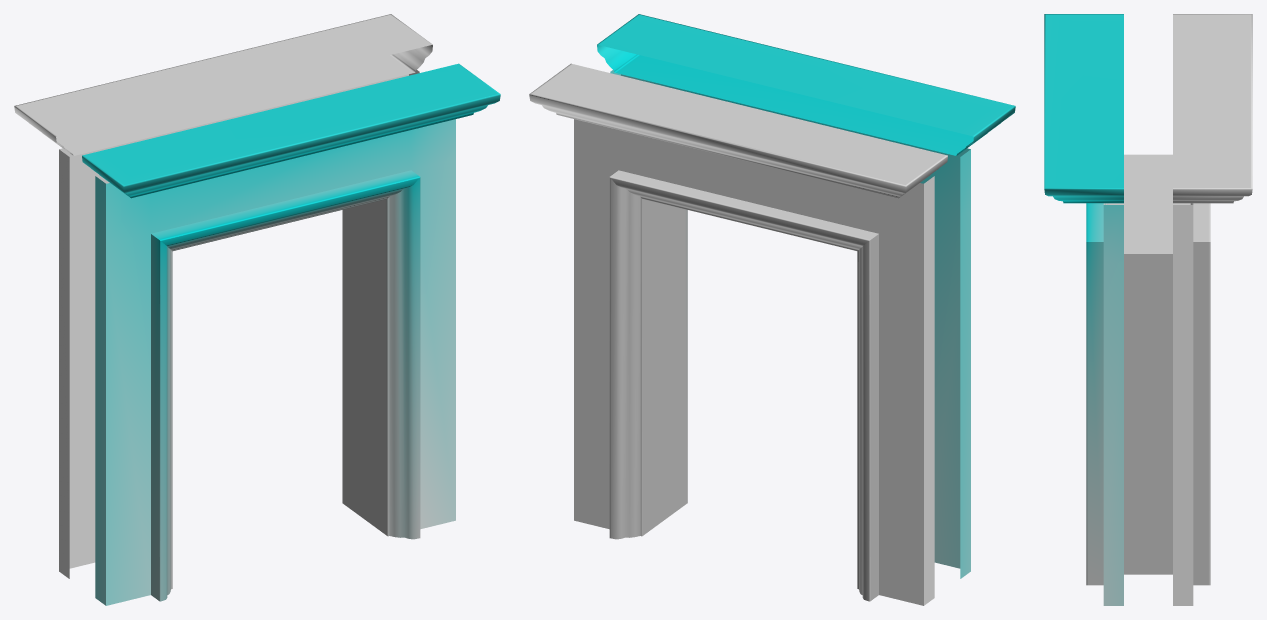
Rendered from SM_ExttoIntBThresholdB.fbx.
3 views of the same model, side by side, from view 1: azimuth 30°, elevation 25°; view 2: azimuth 150°, elevation 25°; view 3: azimuth 270°, elevation 25° (orthographic). The views are drawn at different scales.
Parts seen in each view (by area): view 1: SM_ExttoIntBThresholdB; view 2: SM_ExttoIntBThresholdB; view 3: SM_ExttoIntBThresholdB.
Boxes of the visible parts, box(x1,y1,x2,y2) form: SM_ExttoIntBThresholdB: box(14, 14, 500, 605); SM_ExttoIntBThresholdB: box(529, 14, 1015, 605); SM_ExttoIntBThresholdB: box(1044, 14, 1252, 605).
Size of the model in its own units: 421 by 476 by 212.
